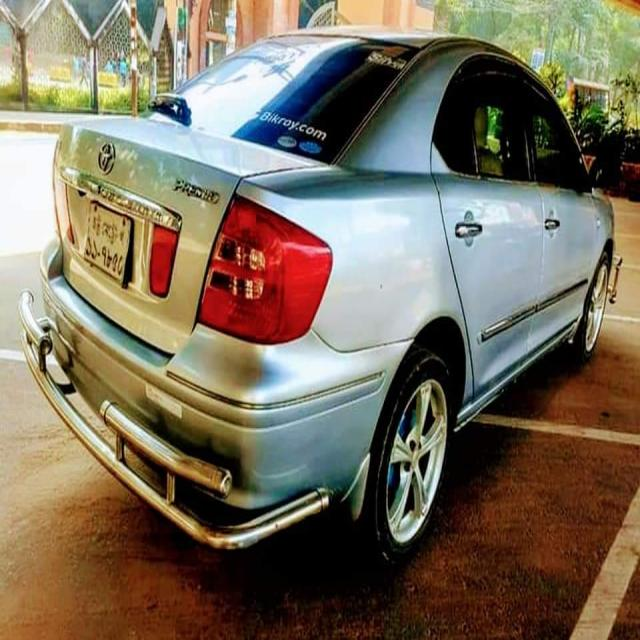silver: (19, 38, 614, 551)
